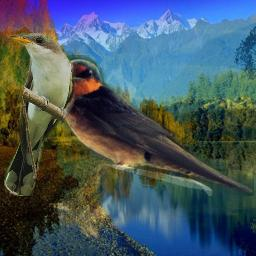Cuckoo: (4, 33, 76, 196)
Swallow: (57, 55, 254, 196)
